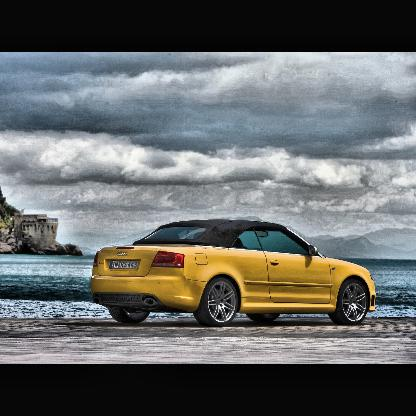Audi RS 4 Convertible 2008: (91, 219, 377, 323)
